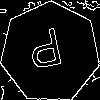P: (25, 27, 67, 79)
